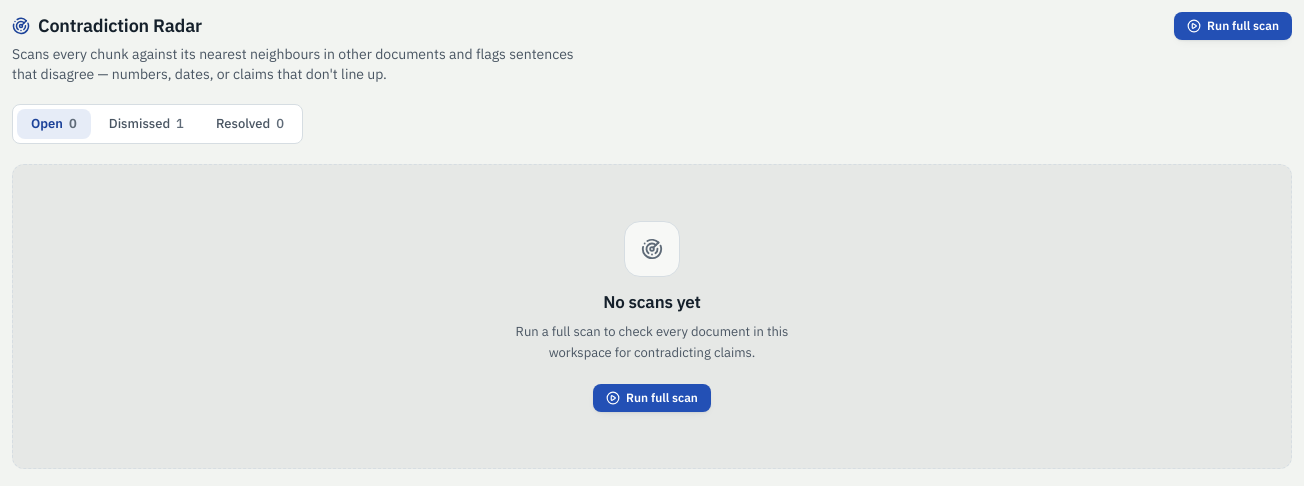
Test: RadarPanel › reopens a dismissed contradiction from its own filter tab (BUG-62)
What coordinates should you click on to do the following:
click the tab "Dismissed 1"
I would click on:
 (146, 124)
Its box is [95, 109, 198, 139].
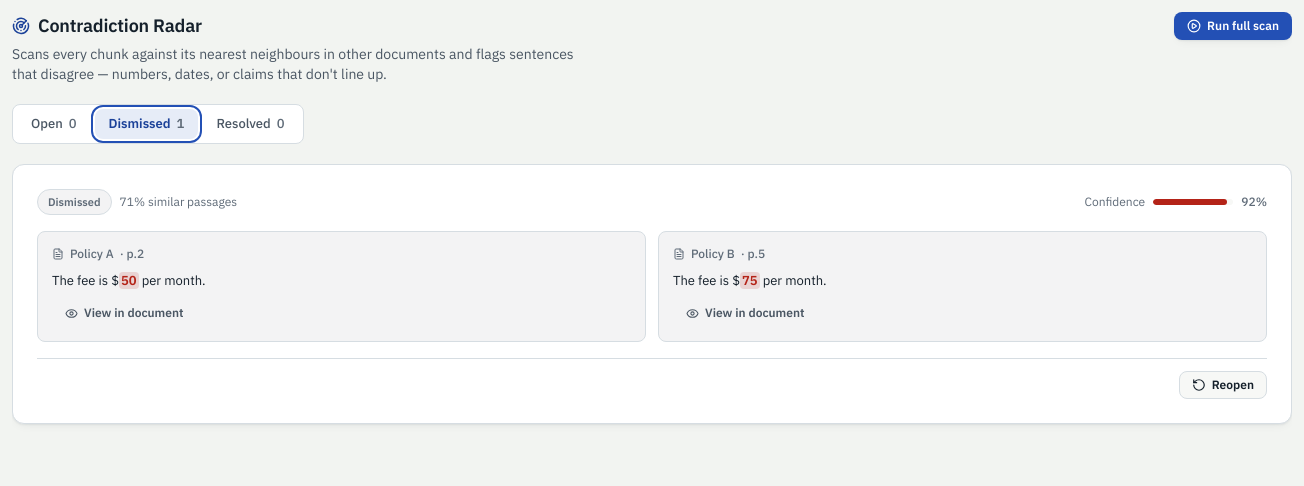
Result: the text "Policy A" is shown at [70, 246, 114, 262]
What coordinates should you click on to do the following:
click the button "Reopen"
I would click on:
 (1223, 385)
Its box is [1179, 371, 1267, 399].
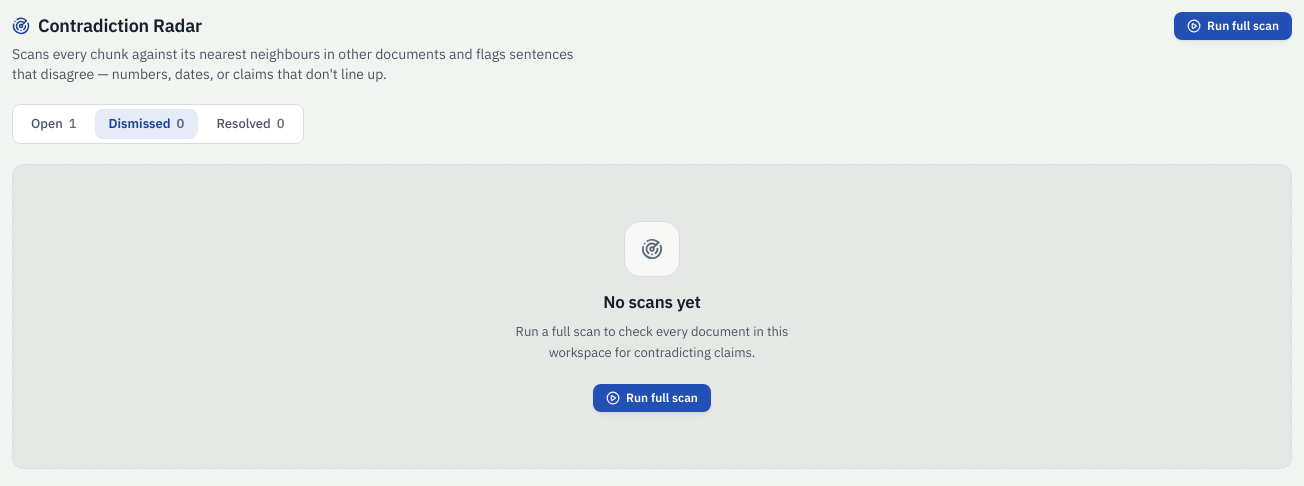
Result: the text "Policy A" is gone
